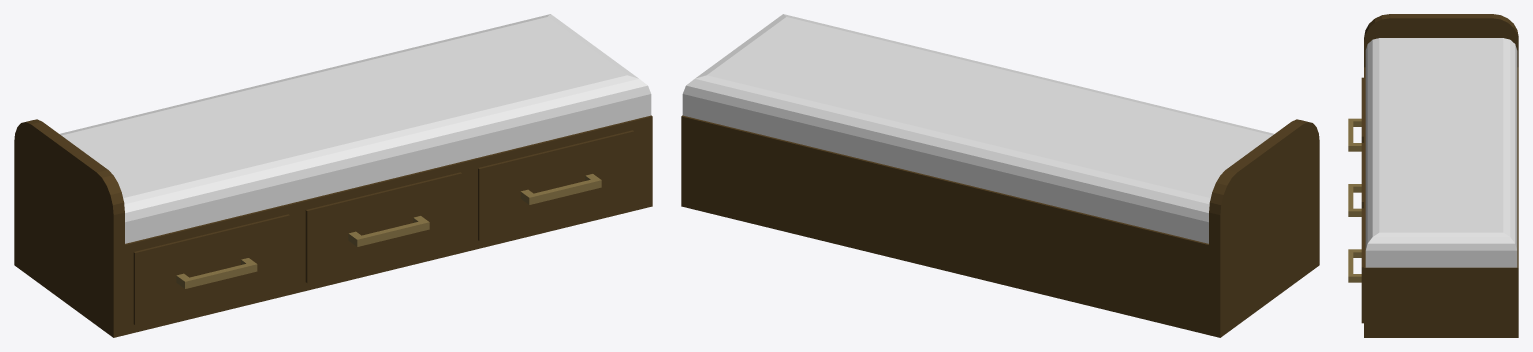
File: cama-material.fbx
The picture shows the model from 3 angles, left to right: view 1: azimuth 30°, elevation 25°; view 2: azimuth 150°, elevation 25°; view 3: azimuth 270°, elevation 25°; orthographic projection. The views are drawn at different scales.
Visible parts, largest first — view 1: Cama; view 2: Cama; view 3: Cama.
Boxes of the visible parts, bbox=[...] form: Cama: bbox=[14, 14, 652, 337]; Cama: bbox=[681, 14, 1319, 337]; Cama: bbox=[1348, 14, 1518, 337].
Size of the model in its own units: 200 by 54.18 by 70.3.
